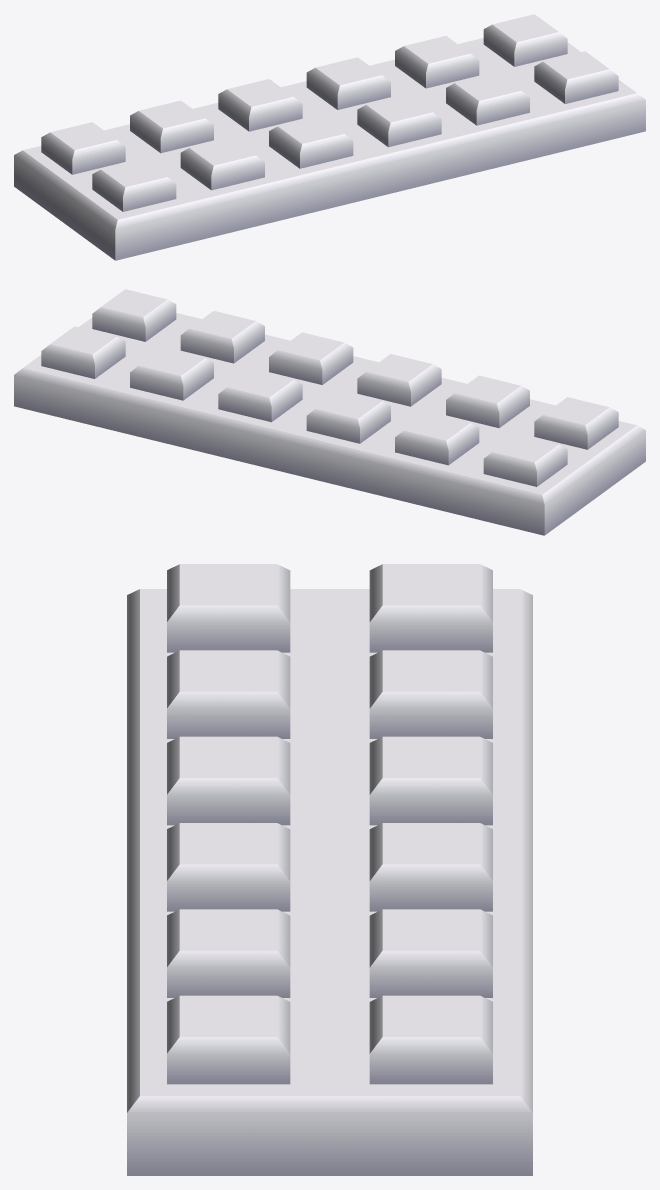
Rendered from square-hq-plate-2x6.glb.
3 renders of one model, top to bottom at view 1: azimuth 30°, elevation 25°; view 2: azimuth 150°, elevation 25°; view 3: azimuth 270°, elevation 25°, orthographic. The views are drawn at different scales.
Visible parts, largest first — view 1: square-hq-plate-2x6; view 2: square-hq-plate-2x6; view 3: square-hq-plate-2x6.
Boxes of the visible parts, bbox=[...] form: square-hq-plate-2x6: bbox=[14, 14, 645, 260]; square-hq-plate-2x6: bbox=[14, 289, 645, 535]; square-hq-plate-2x6: bbox=[127, 564, 532, 1175].
Size of the model in its own units: 0.477 by 0.05 by 0.158.
1 material, 1 textured.
